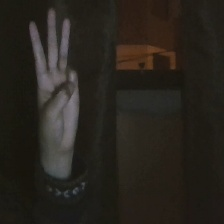W: (21, 1, 90, 161)
